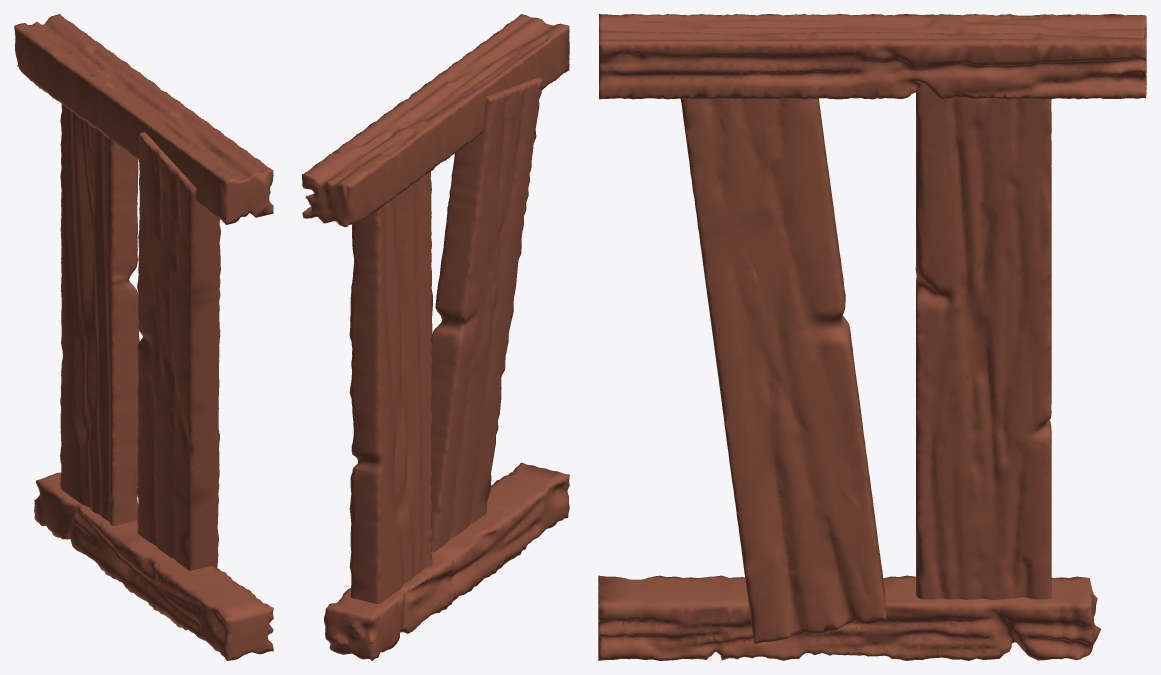
File: stylizedFenceLittle.fbx
3 views of the same model, side by side, from view 1: azimuth 30°, elevation 25°; view 2: azimuth 150°, elevation 25°; view 3: azimuth 270°, elevation 25° (orthographic). The views are drawn at different scales.
Visible parts, largest first — view 1: fence; view 2: fence; view 3: fence.
Part boxes in pixels (<box>): fence: <box>14,14,273,660</box>; fence: <box>302,14,569,660</box>; fence: <box>598,14,1146,660</box>.
Bounding box in the file's own units: 70.71 × 540 × 435.
